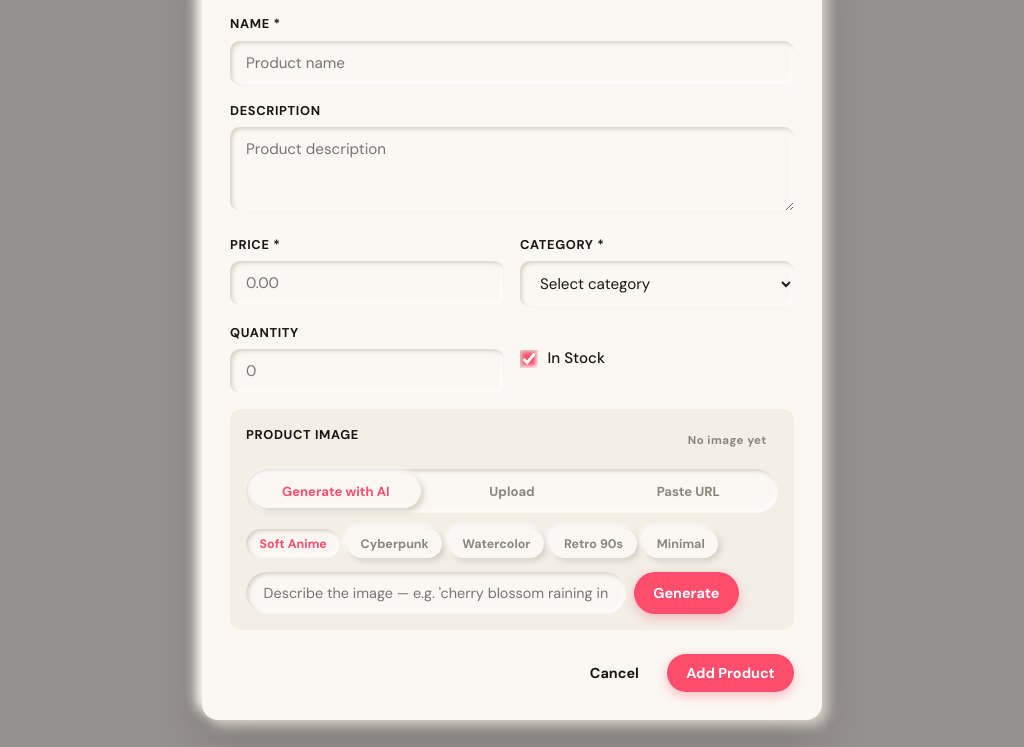
Scenario: ProductForm › shows error if required fields are missing
The width and height of the screenshot is (1024, 747).
(page scrolled)
Click the button "Add Product".
click(730, 673)  # box [667,654,794,692]
(page scrolled)
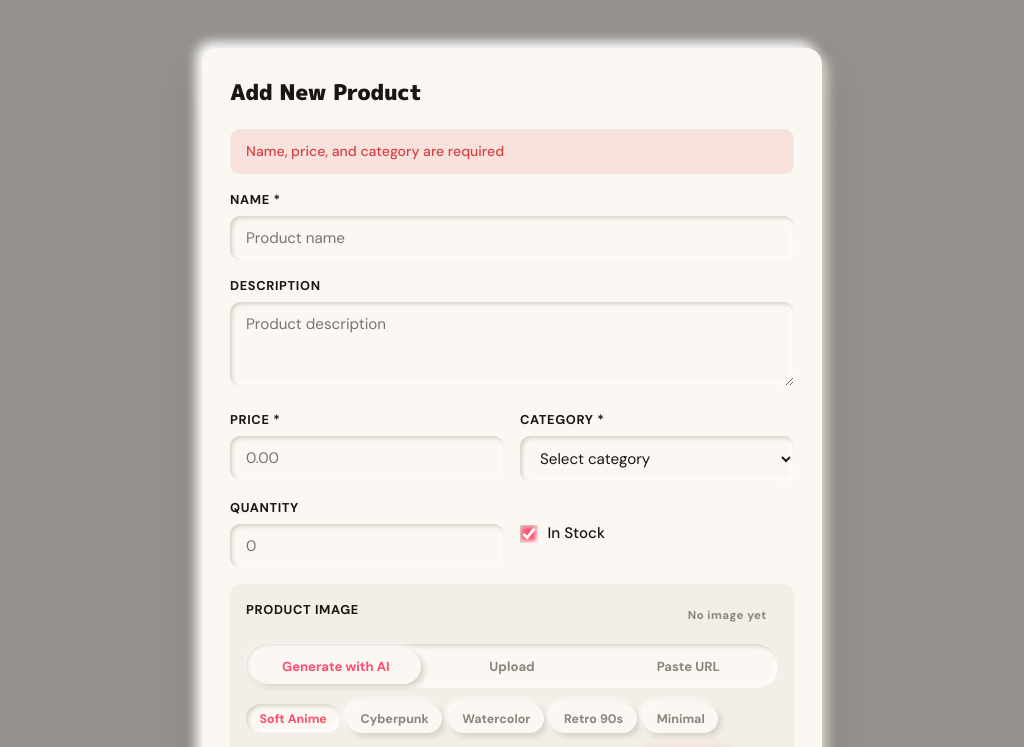
Expected: the text "Name, price, and category are required" is shown, [230,130,794,174]
